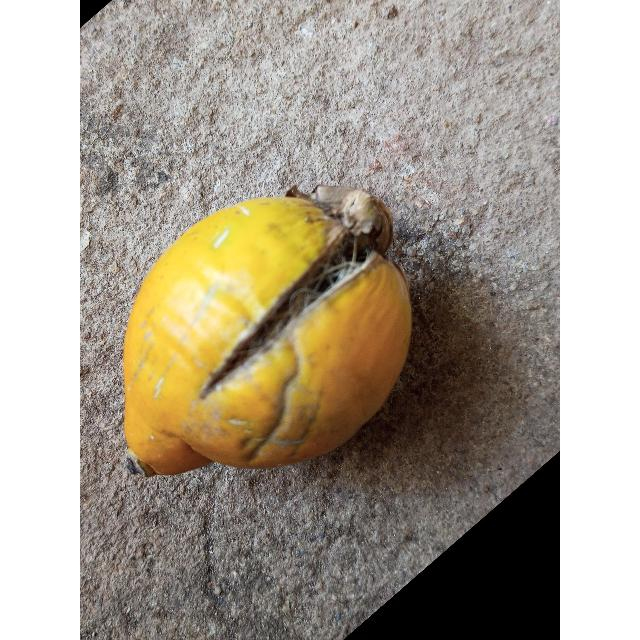damaged: (123, 190, 413, 478)
